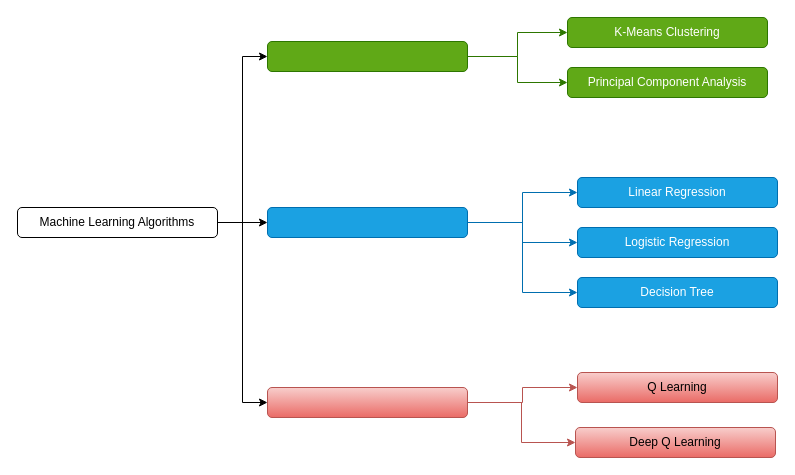
Some shapes in this 795 by 475 pixel diagram are drawn without their labels. The shapes that lost their labels are listed below. From the top down, each one's box as (x1, y1, x2, y2) in pixels, then its label:
(266, 40, 468, 72): Unsupervised Learning
(266, 206, 468, 238): Supervised Learning
(266, 386, 468, 418): Reinforcement Learning
